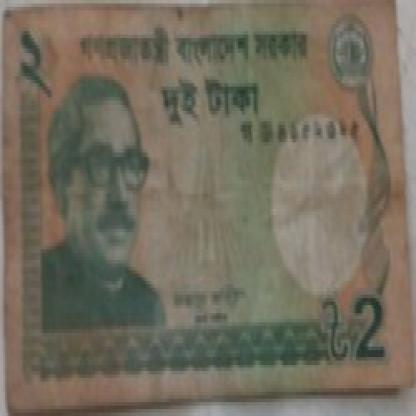two taka: (350, 284, 400, 378), (17, 24, 60, 111)
